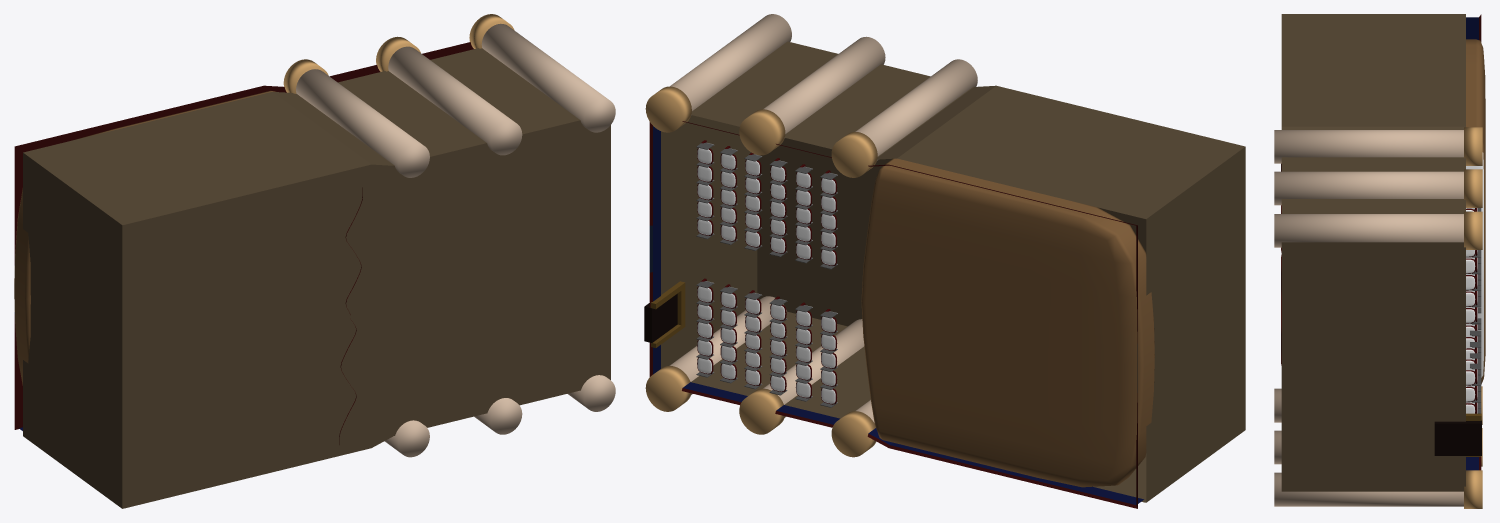
Rendered from mr._nezzers_theater.fbx.
The picture shows the model from 3 angles, left to right: view 1: azimuth 30°, elevation 25°; view 2: azimuth 150°, elevation 25°; view 3: azimuth 270°, elevation 25°; orthographic projection. The views are drawn at different scales.
Parts seen in each view (by area): view 1: Plane_1, Cylinder.080_397, Cylinder.078_395, Cylinder.082_399, Cube.315_386, Cylinder.072_389, Cylinder.074_391, Cylinder.076_393; view 2: Plane_1, Cube.315_386, Cylinder.082_399, Cylinder.080_397, Cylinder.078_395, Cylinder.074_391, Cylinder.081_398, Cylinder.079_396, Cylinder.083_400, Cylinder.073_390, Cylinder.075_392, Cylinder.077_394 (+3 smaller); view 3: Plane_1, Cylinder.078_395, Cylinder.080_397, Cylinder.082_399, Cylinder.072_389, Cube.315_386, Cube.316_401, Cylinder.079_396, Cylinder.083_400, Cylinder.081_398, Cylinder.073_390, Cylinder.074_391 (+1 smaller).
Part boxes in pixels (box(x1,y1,x2,y2)): Plane_1: box(14, 42, 610, 508); Cylinder.080_397: box(388, 46, 522, 155); Cylinder.078_395: box(481, 23, 615, 132); Cylinder.082_399: box(296, 69, 429, 177); Cube.315_386: box(14, 90, 275, 385); Cylinder.072_389: box(567, 375, 615, 411); Cylinder.074_391: box(474, 398, 522, 434); Cylinder.076_393: box(384, 420, 429, 457); Plane_1: box(649, 41, 1245, 508); Cube.315_386: box(861, 158, 1154, 487); Cylinder.082_399: box(855, 59, 977, 160); Cylinder.080_397: box(763, 36, 885, 138); Cylinder.078_395: box(670, 14, 791, 115); Cylinder.074_391: box(763, 319, 864, 417); Cylinder.081_398: box(739, 109, 785, 155); Cylinder.079_396: box(645, 86, 691, 132); Cylinder.083_400: box(831, 132, 877, 177); Cylinder.073_390: box(645, 365, 691, 411); Cylinder.075_392: box(739, 388, 784, 434); Cylinder.077_394: box(831, 411, 876, 457); Plane_1: box(1281, 14, 1481, 491); Cylinder.078_395: box(1274, 214, 1463, 247); Cylinder.080_397: box(1274, 171, 1463, 205); Cylinder.082_399: box(1274, 130, 1463, 163); Cylinder.072_389: box(1274, 472, 1463, 506); Cube.315_386: box(1466, 39, 1485, 384); Cube.316_401: box(1434, 420, 1481, 455); Cylinder.079_396: box(1464, 211, 1482, 249); Cylinder.083_400: box(1464, 127, 1482, 165); Cylinder.081_398: box(1464, 169, 1482, 207); Cylinder.073_390: box(1464, 470, 1482, 508); Cylinder.074_391: box(1274, 430, 1281, 464).
Size of the model in its own units: 194 by 119 by 77.33.
